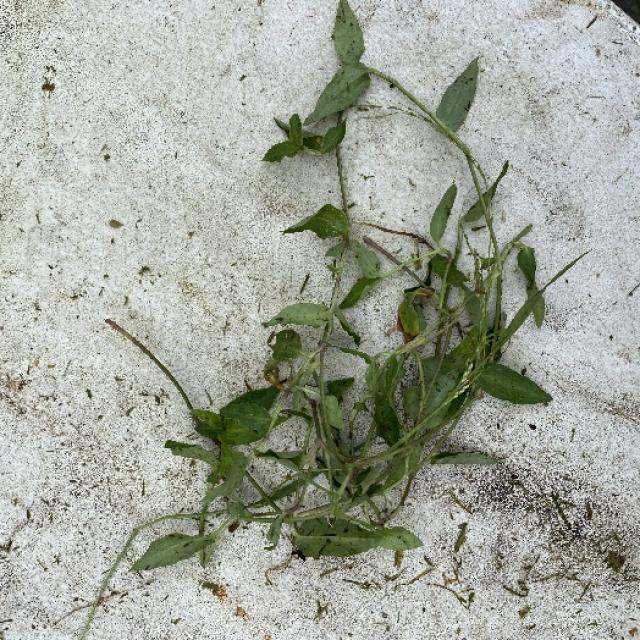organik: (127, 26, 537, 584)
